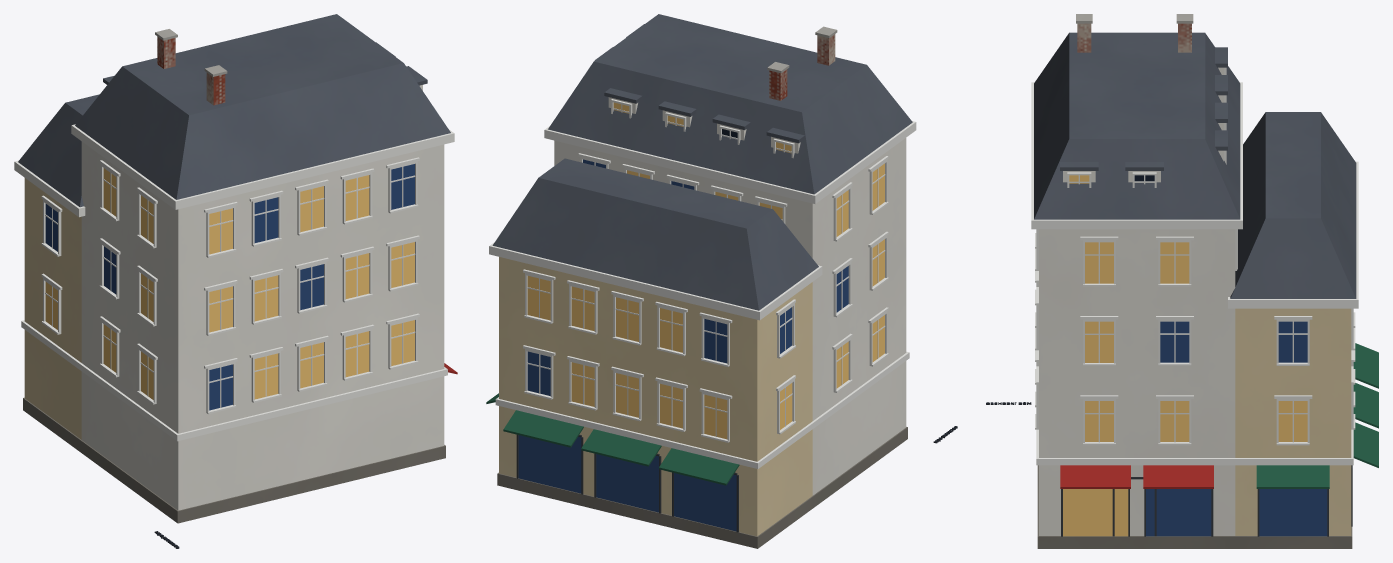
Rendered from dum_0e_obchody.glb.
3 renders of one model, left to right at view 1: azimuth 30°, elevation 25°; view 2: azimuth 150°, elevation 25°; view 3: azimuth 270°, elevation 25°, orthographic. The views are drawn at different scales.
Visible parts, largest first — view 1: dum, noc; view 2: dum, noc; view 3: dum, noc.
Part boxes in pixels (x1,y1,x2,y2): dum: [14, 14, 457, 548]; noc: [45, 168, 414, 399]; dum: [486, 14, 957, 548]; noc: [527, 102, 884, 439]; dum: [986, 14, 1378, 548]; noc: [1063, 175, 1307, 536].
Bounding box in the file's own units: 13.61 × 17.28 × 14.33.
1 material, 1 textured.
